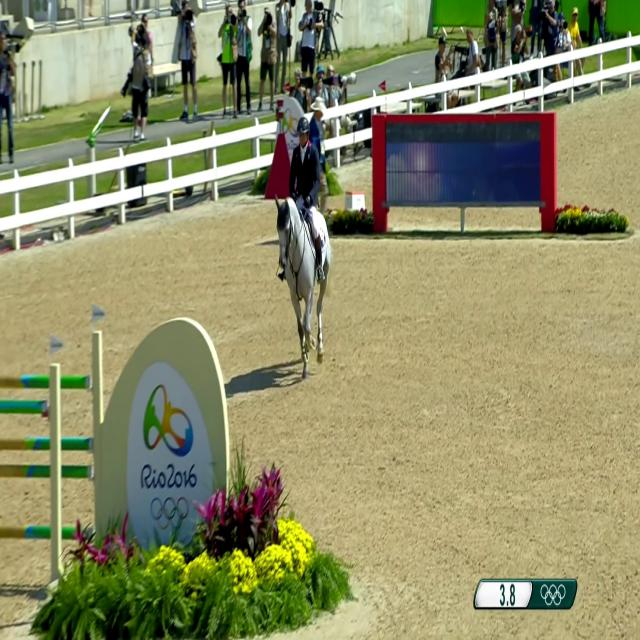Horse Running: (267, 192, 357, 380)
